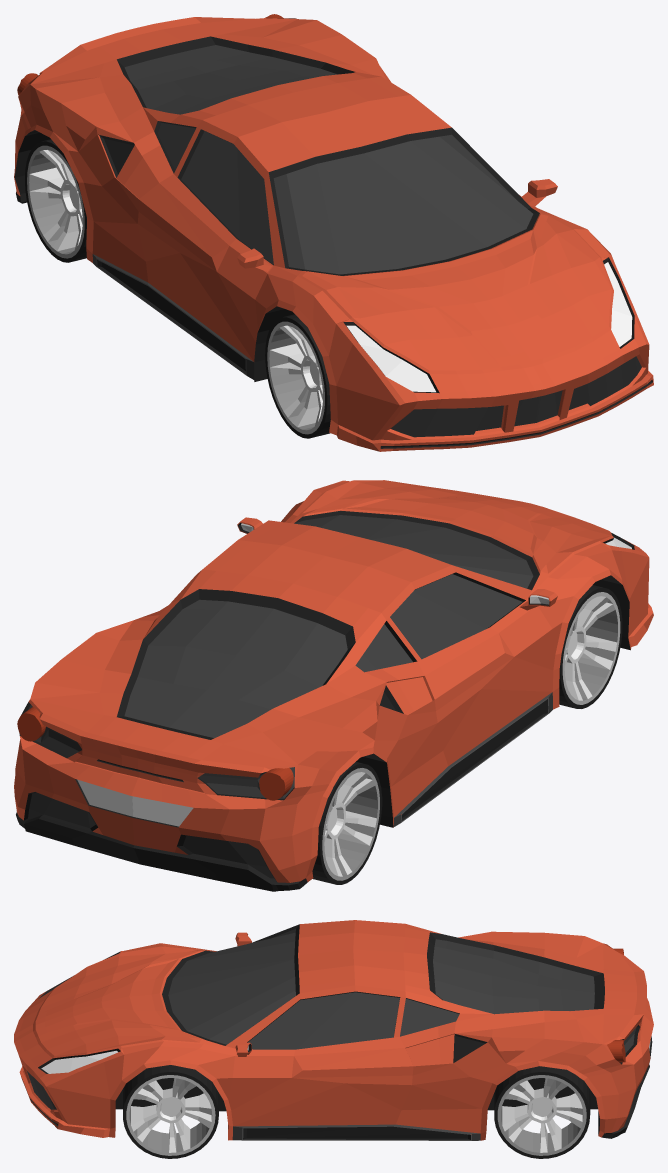
The model's file is ferrari488gtbremake.fbx.
3 renders of one model, top to bottom at view 1: azimuth 30°, elevation 25°; view 2: azimuth 150°, elevation 25°; view 3: azimuth 270°, elevation 25°, orthographic. The views are drawn at different scales.
Visible parts, largest first — view 1: RedBody, FrontRight, BackRight; view 2: RedBody, BackRight, FrontRight; view 3: RedBody, FrontLeft, BackLeft.
Boxes of the visible parts, <box> form: RedBody: <box>14,14,653,451</box>; FrontRight: <box>265,314,330,438</box>; BackRight: <box>25,139,86,262</box>; RedBody: <box>14,480,653,891</box>; BackRight: <box>312,762,382,884</box>; FrontRight: <box>559,585,622,708</box>; RedBody: <box>14,920,653,1140</box>; FrontLeft: <box>123,1065,218,1158</box>; BackLeft: <box>494,1066,590,1158</box>.
Bounding box in the file's own units: 1.98 × 4.52 × 1.2.
